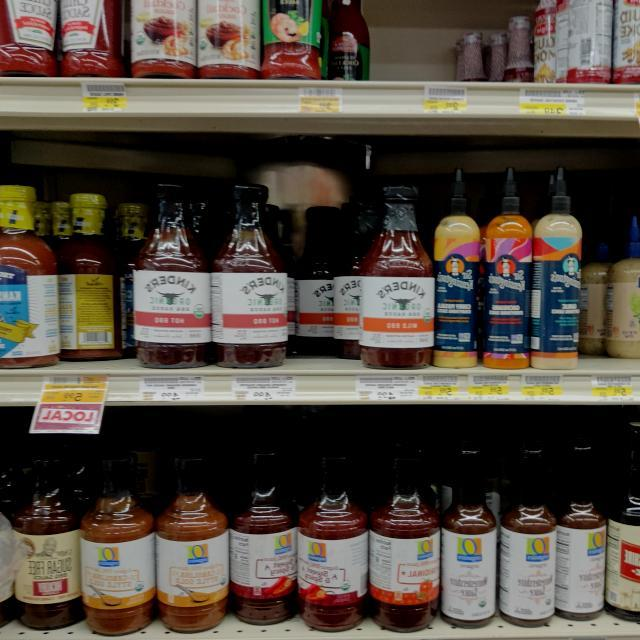Sauce: (79, 441, 159, 640), (367, 427, 442, 639), (154, 437, 229, 640), (6, 439, 78, 640), (292, 441, 363, 640), (225, 440, 294, 632), (0, 166, 62, 369), (438, 435, 500, 636), (552, 428, 606, 640), (494, 436, 550, 632), (602, 417, 640, 630), (256, 0, 326, 90), (50, 0, 120, 79), (128, 0, 201, 75), (197, 0, 260, 76), (0, 0, 51, 76), (604, 0, 640, 86)
